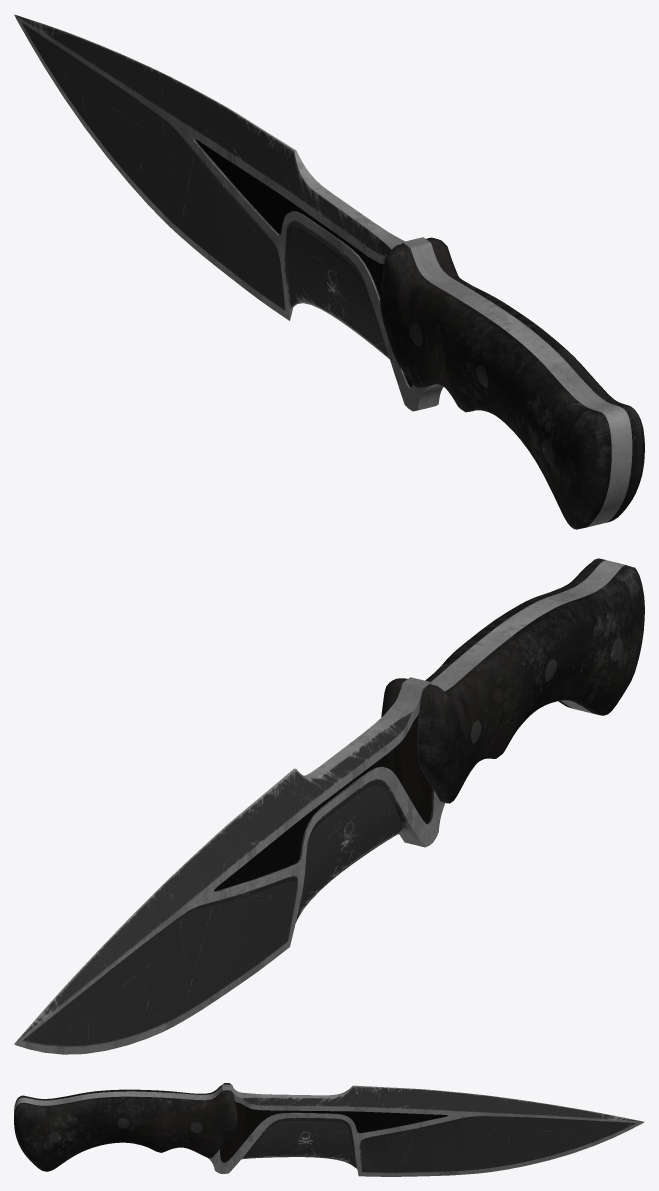
The model's file is knife.glb.
The picture shows the model from 3 angles, top to bottom: view 1: azimuth 30°, elevation 25°; view 2: azimuth 150°, elevation 25°; view 3: azimuth 270°, elevation 25°; orthographic projection. The views are drawn at different scales.
Parts seen in each view (by area): view 1: knife_Gun, knife_GunFull; view 2: knife_Gun, knife_GunFull; view 3: knife_Gun, knife_GunFull.
Part boxes in pixels (x1,y1,x2,y2): knife_Gun: (15,15,644,529); knife_GunFull: (14,14,644,528); knife_Gun: (15,559,644,1053); knife_GunFull: (14,558,644,1054); knife_Gun: (14,1083,643,1176); knife_GunFull: (14,1083,644,1176).
Bounding box in the file's own units: 0.0203 × 0.0478 × 0.3.
Materials: 1 (1 with a texture image).
